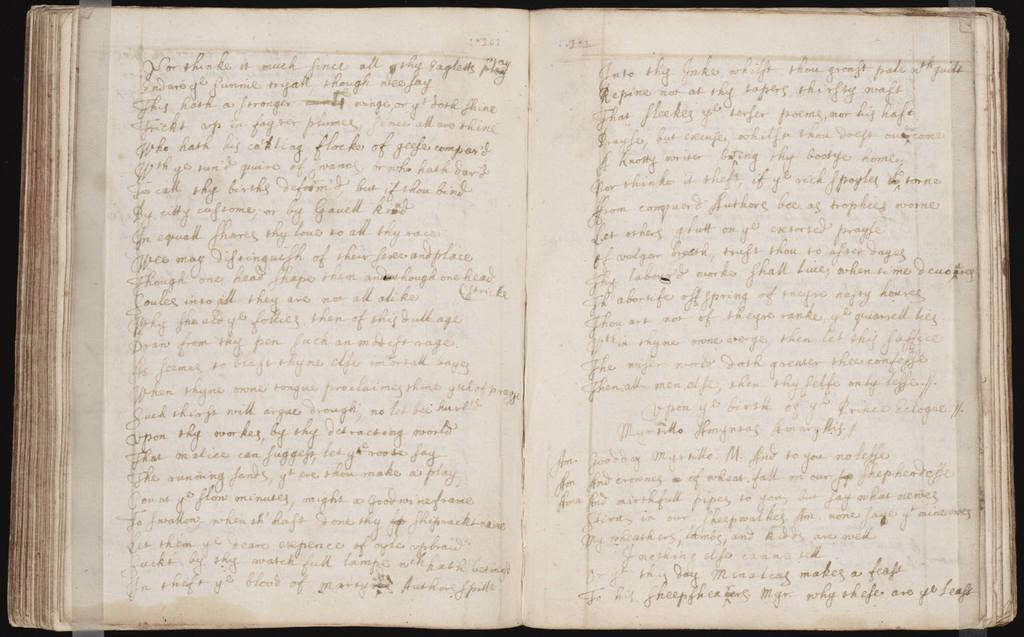book: (15, 11, 1019, 636)
